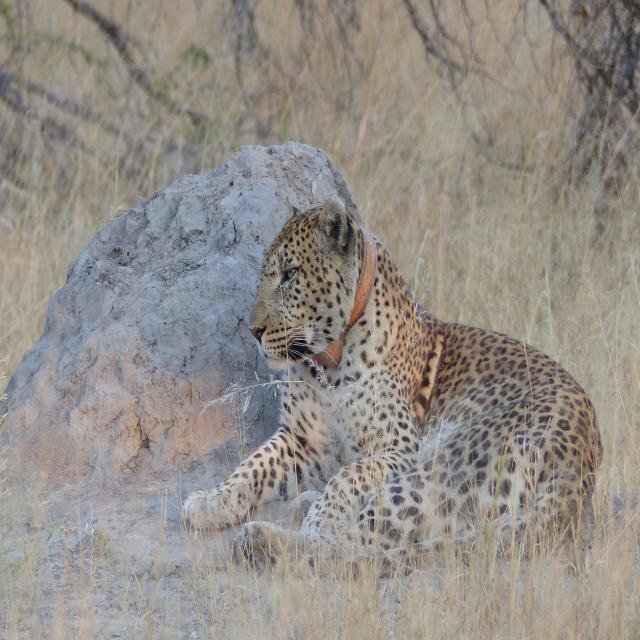Leopard: (188, 194, 610, 577)
